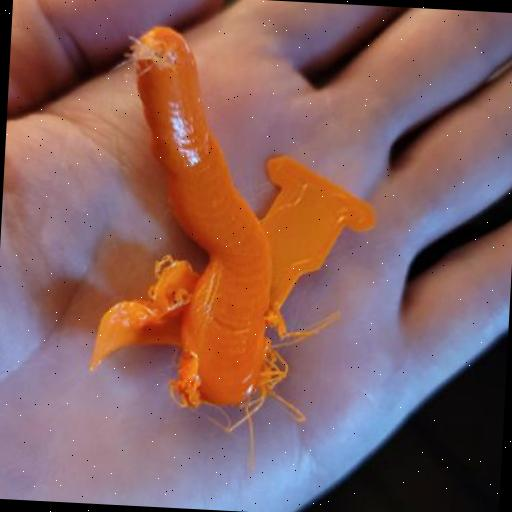spaghetti: (137, 250, 342, 473)
